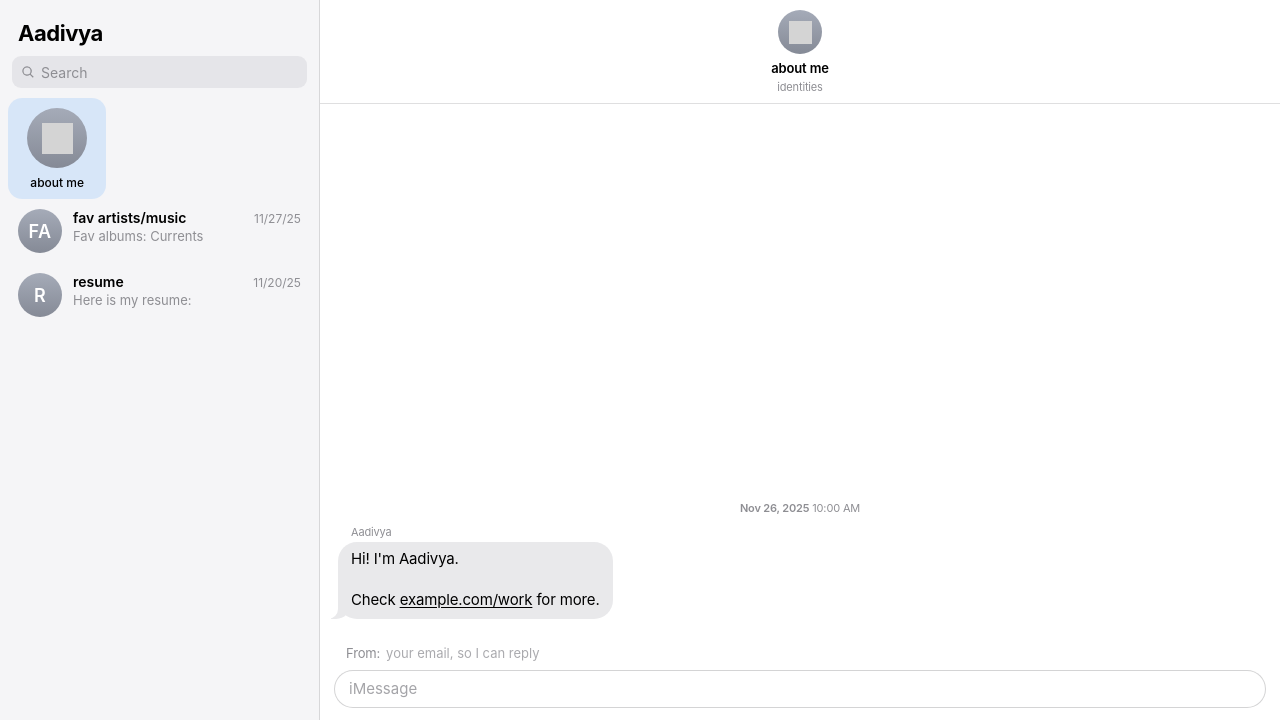
Test: MessagesApp › sends to /api/contact and shows the message as a delivered blue bubble
Type "visitor@example.com" into the field named "your email". click: (820,653)
box: [386,643,1254,663]
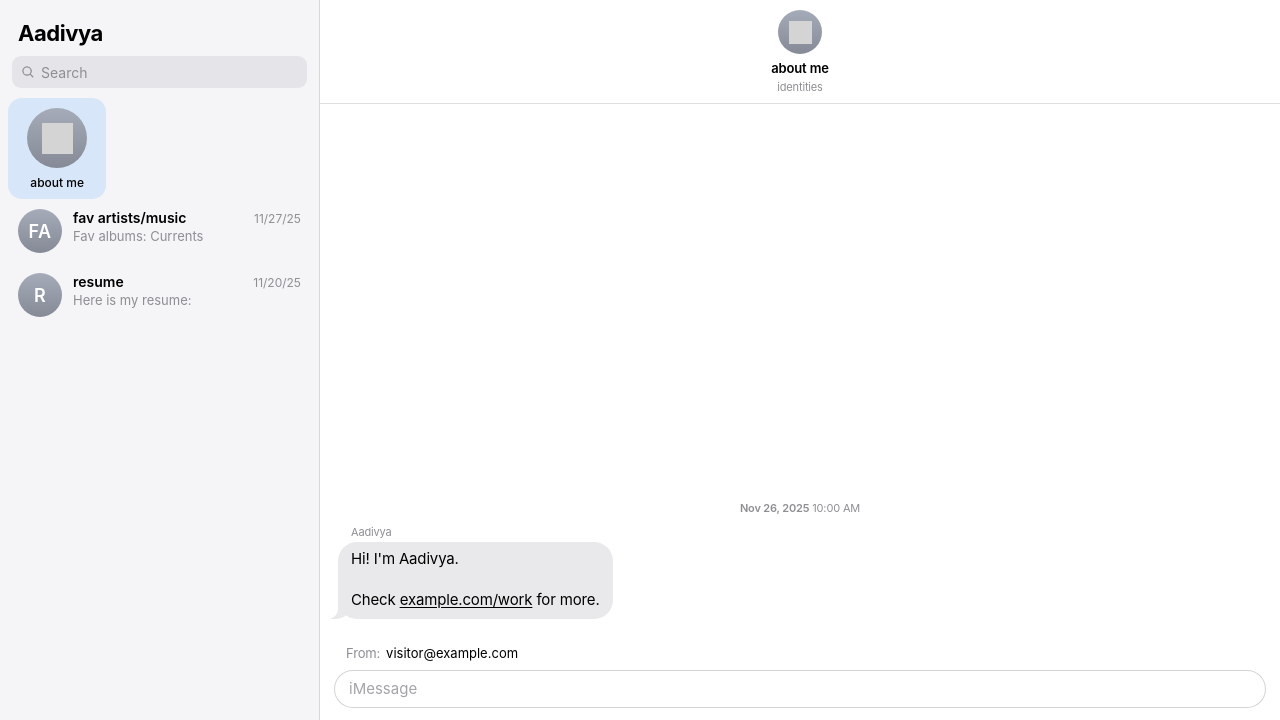
Type "Loved your projects, want to chat?" into the text box with placeholder "iMessage". click: (788,689)
box: [349,674,1227,704]
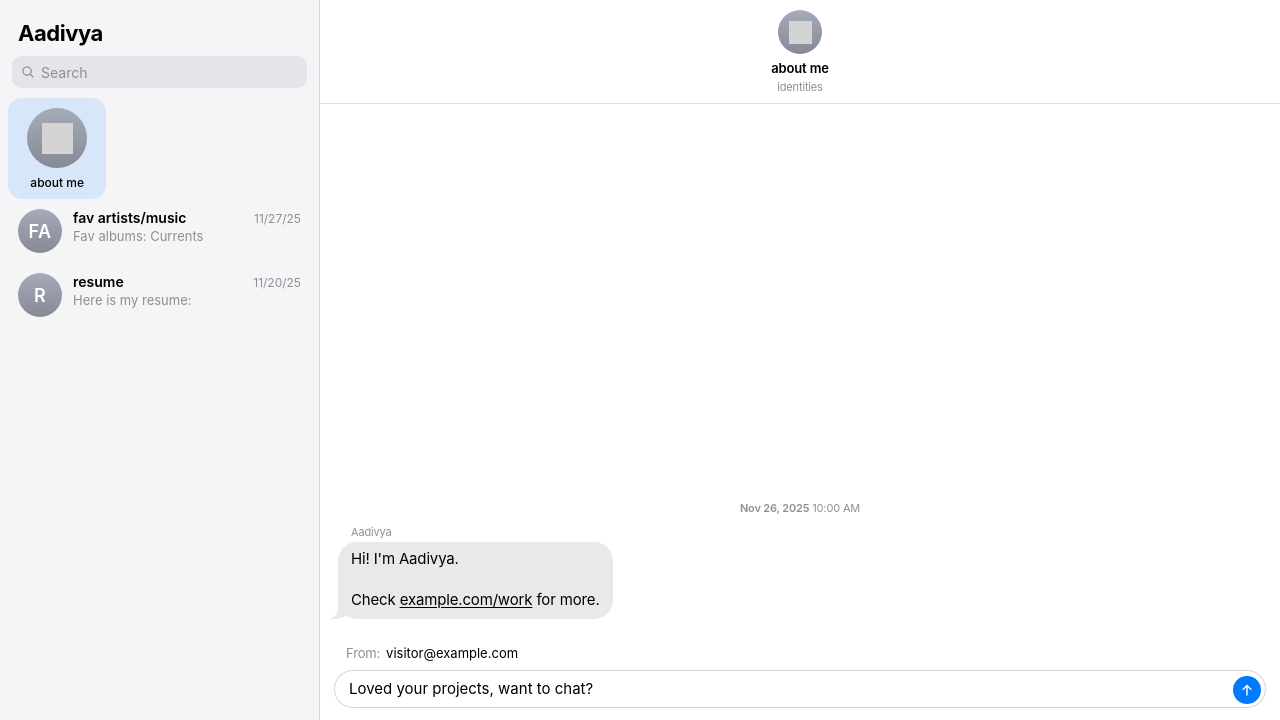
Click the button named "send". click: (1247,690)
box: [1233,676,1261,704]
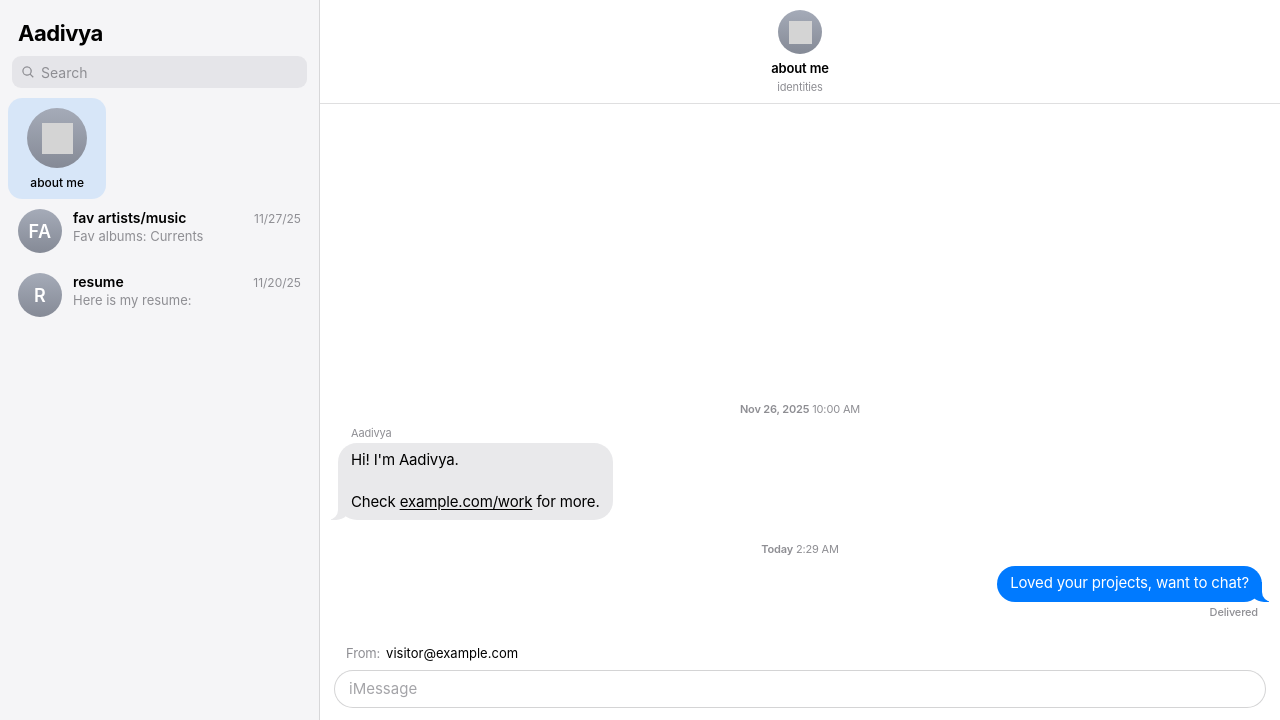
expect the text "Delivered" is shown: met, box [1210,605,1258,619]
expect the text box with placeholder "iMessage" is empty: met, box [349,674,1227,704]
